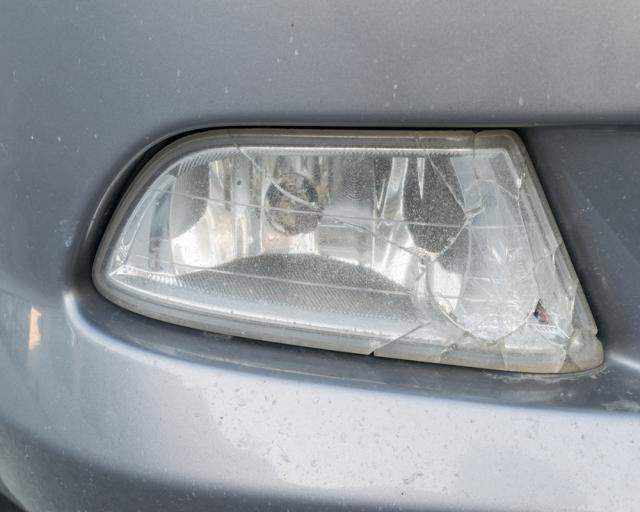lamp broken: (90, 126, 606, 374)
